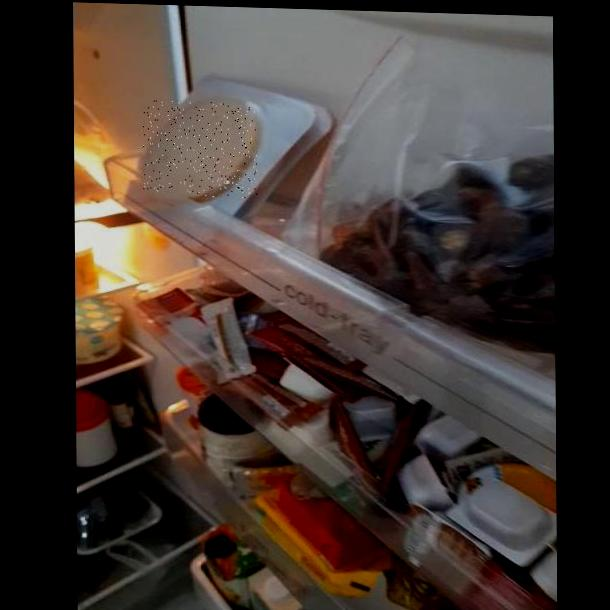salami: (143, 100, 257, 198)
